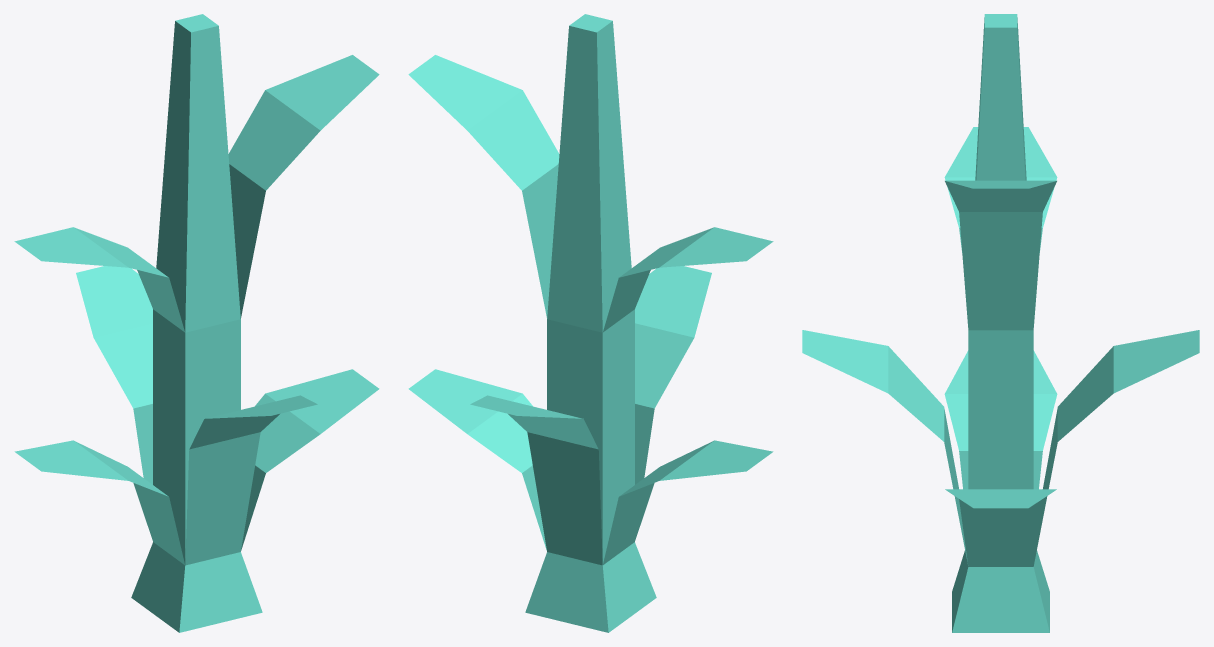
The model's file is crops_cornStageA.gltf.
3 renders of one model, left to right at view 1: azimuth 30°, elevation 25°; view 2: azimuth 150°, elevation 25°; view 3: azimuth 270°, elevation 25°, orthographic.
Visible parts, largest first — view 1: crops_cornStageA; view 2: crops_cornStageA; view 3: crops_cornStageA.
Part boxes in pixels (x1,y1,x2,y2): crops_cornStageA: [14, 14, 379, 632]; crops_cornStageA: [408, 14, 773, 632]; crops_cornStageA: [802, 14, 1199, 632].
Size of the model in its own units: 0.3042 by 0.5 by 0.3042.
